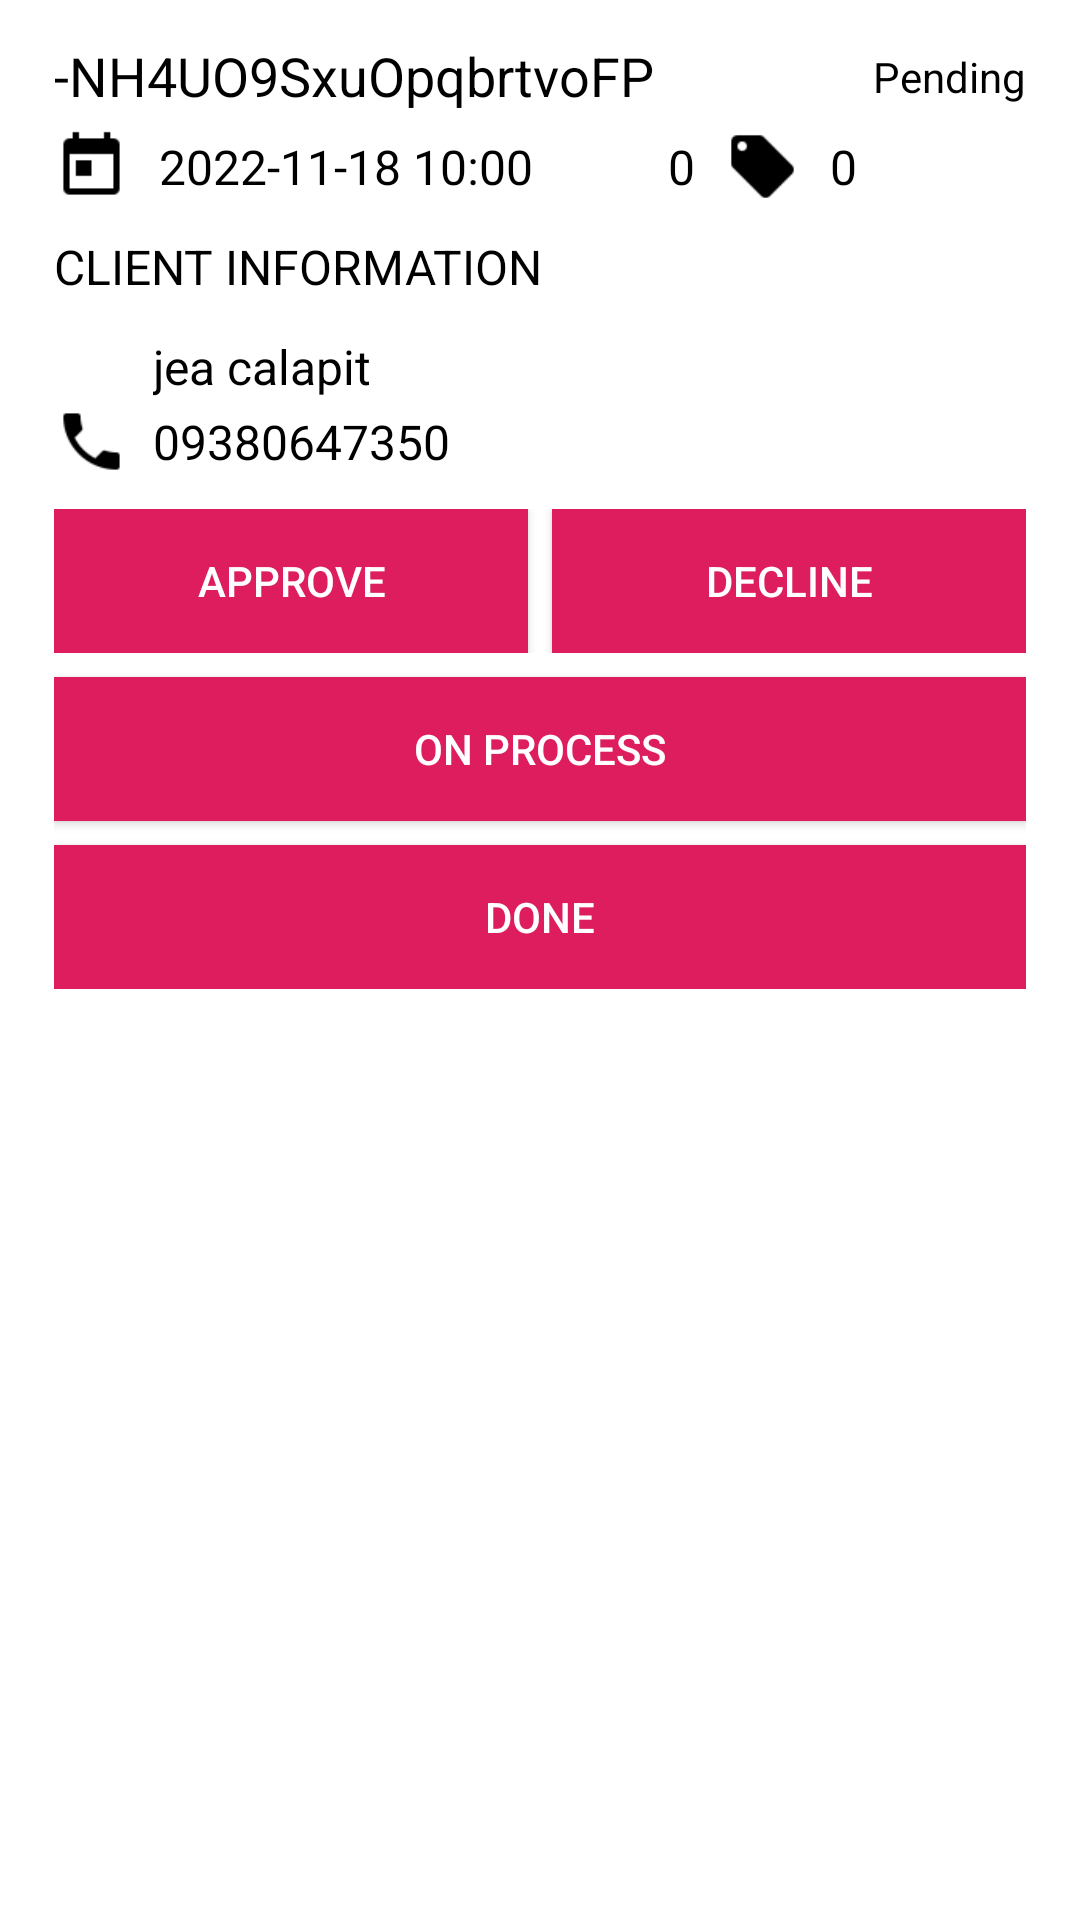

Named icons in this screenshot (1080*1920) and their centers, [x,y]:
local offer: [762,166]
phone: [91,441]
today: [91,163]
